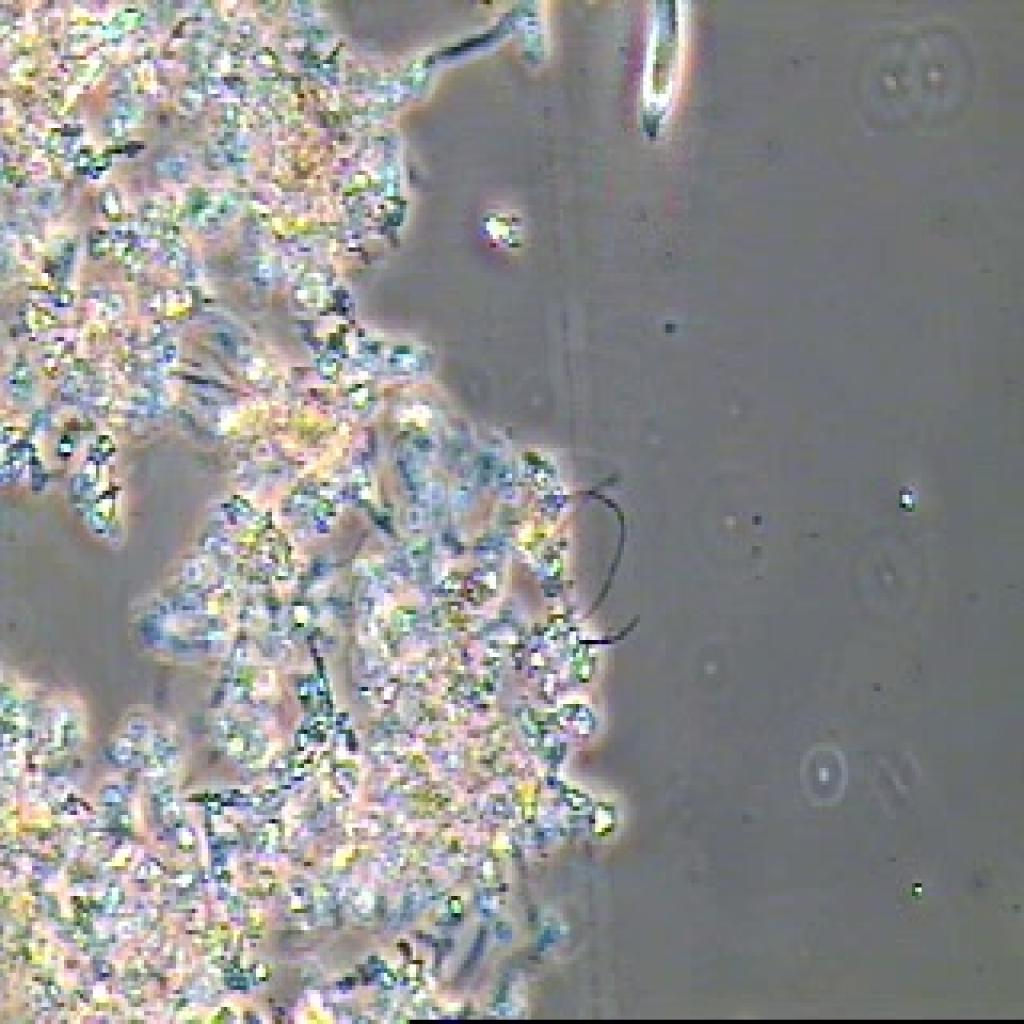Pristina: (598, 0, 703, 149)
